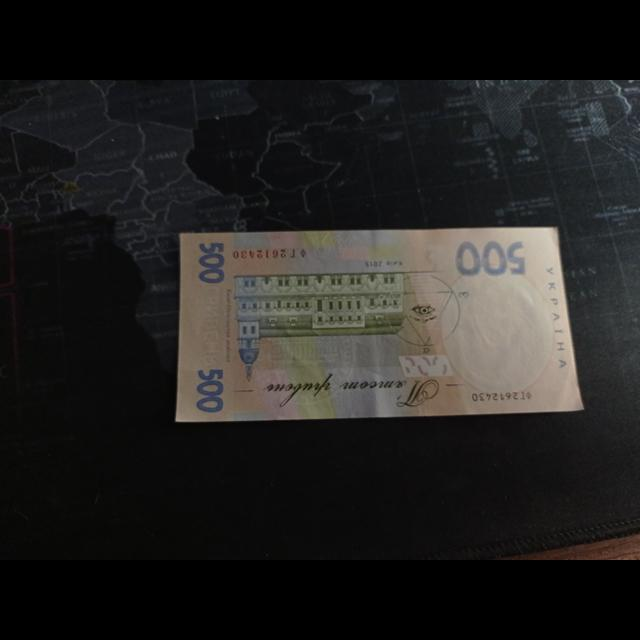500uah: (174, 227, 583, 422)
